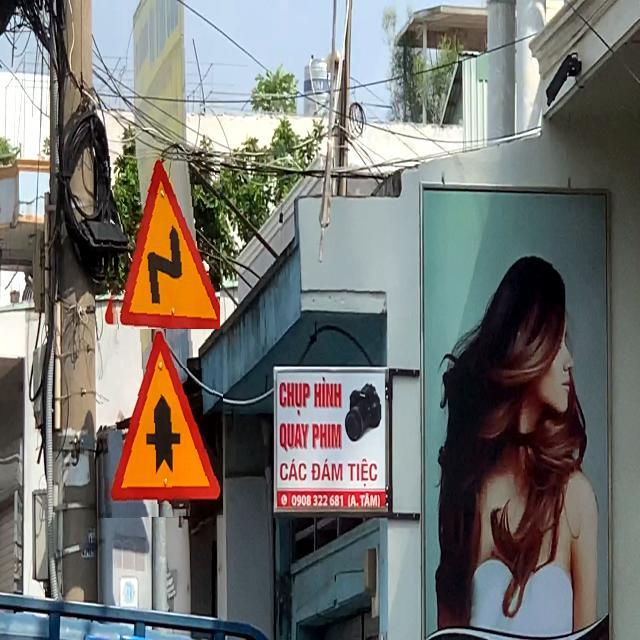W-202b: (98, 149, 220, 337)
W-207a: (98, 329, 223, 518)
